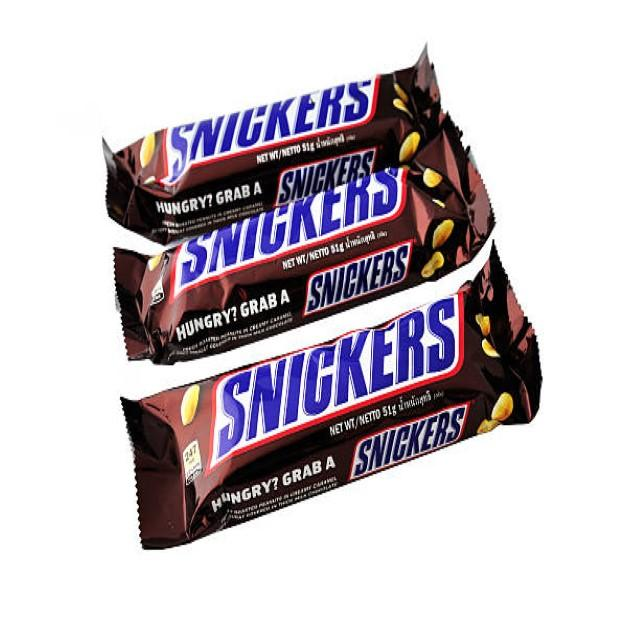snickers_chocolate: (133, 294, 560, 528), (110, 152, 520, 346), (122, 63, 480, 185)
